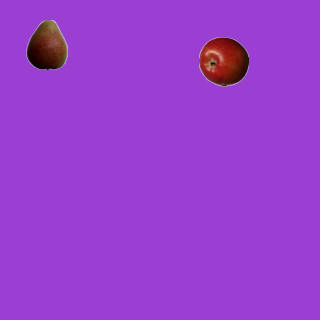Apple Braeburn: (198, 36, 248, 86)
Pear Forelle: (21, 19, 71, 69)
